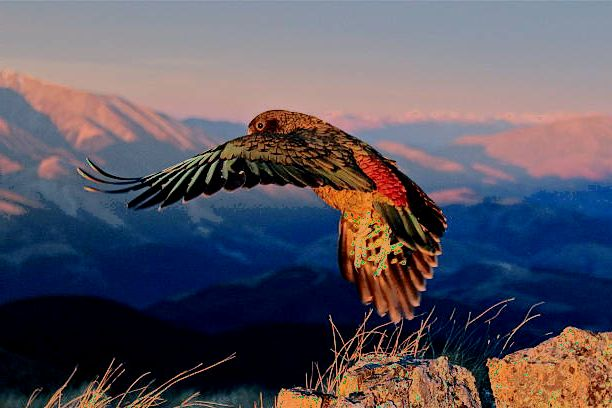Bird: (74, 109, 451, 327)
